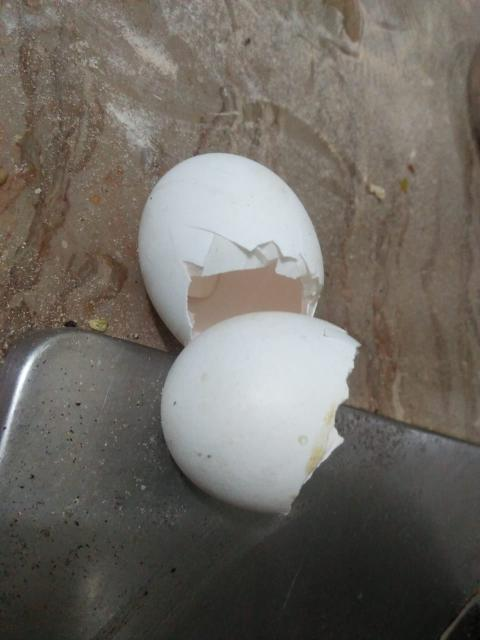Roto: (159, 310, 362, 516), (137, 149, 324, 344)
